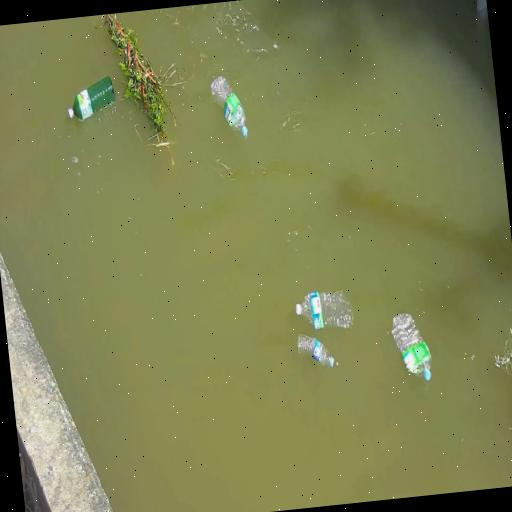plastic: (390, 310, 435, 383), (208, 72, 250, 148), (62, 78, 117, 128), (295, 290, 355, 334), (294, 334, 338, 372)
twig: (104, 8, 178, 140), (492, 332, 512, 440)
